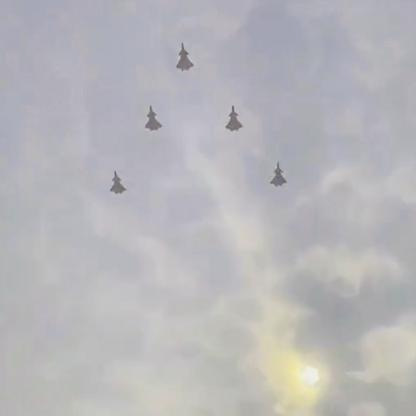F4: (176, 40, 194, 72), (144, 104, 162, 132), (224, 104, 242, 132), (269, 161, 287, 189), (109, 170, 127, 194)
